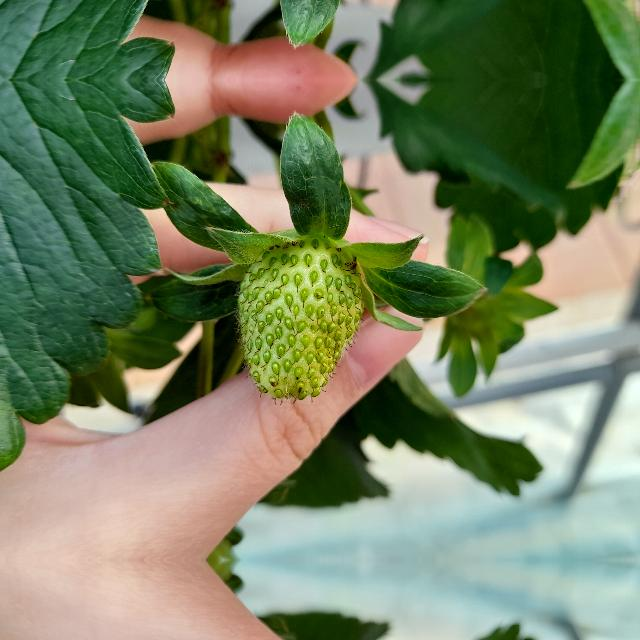Health_25: (236, 238, 364, 398)
